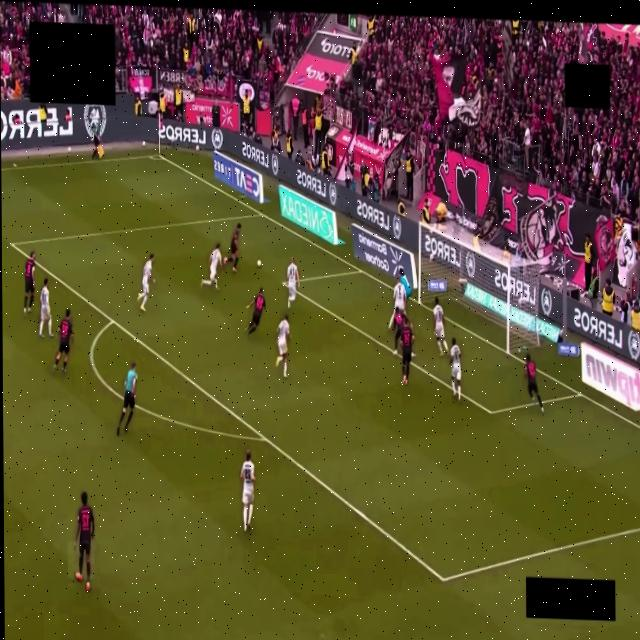ball: (257, 259, 261, 268)
player: (74, 491, 93, 591), (53, 308, 71, 372), (240, 450, 254, 531), (525, 354, 543, 414), (201, 243, 222, 290), (137, 254, 154, 311), (433, 297, 449, 356), (246, 289, 265, 336), (400, 316, 413, 384), (39, 278, 53, 339), (276, 315, 289, 377), (388, 281, 405, 328), (449, 338, 461, 402), (23, 252, 34, 314), (286, 258, 299, 308), (229, 224, 241, 272), (392, 308, 403, 354), (398, 267, 411, 300)
referee: (116, 364, 137, 435)
